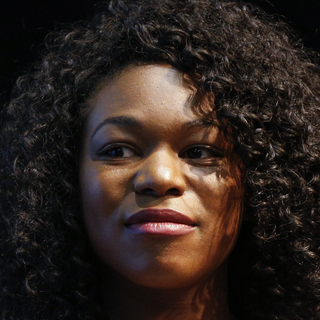eye: (97, 139, 143, 163), (182, 140, 224, 165)
